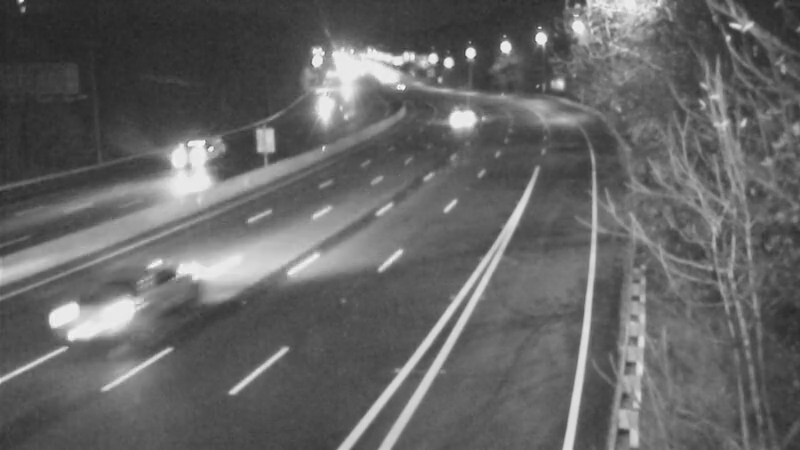vehicle: (44, 263, 154, 373), (147, 122, 227, 202), (375, 60, 425, 110), (434, 89, 484, 139), (298, 77, 348, 127)
